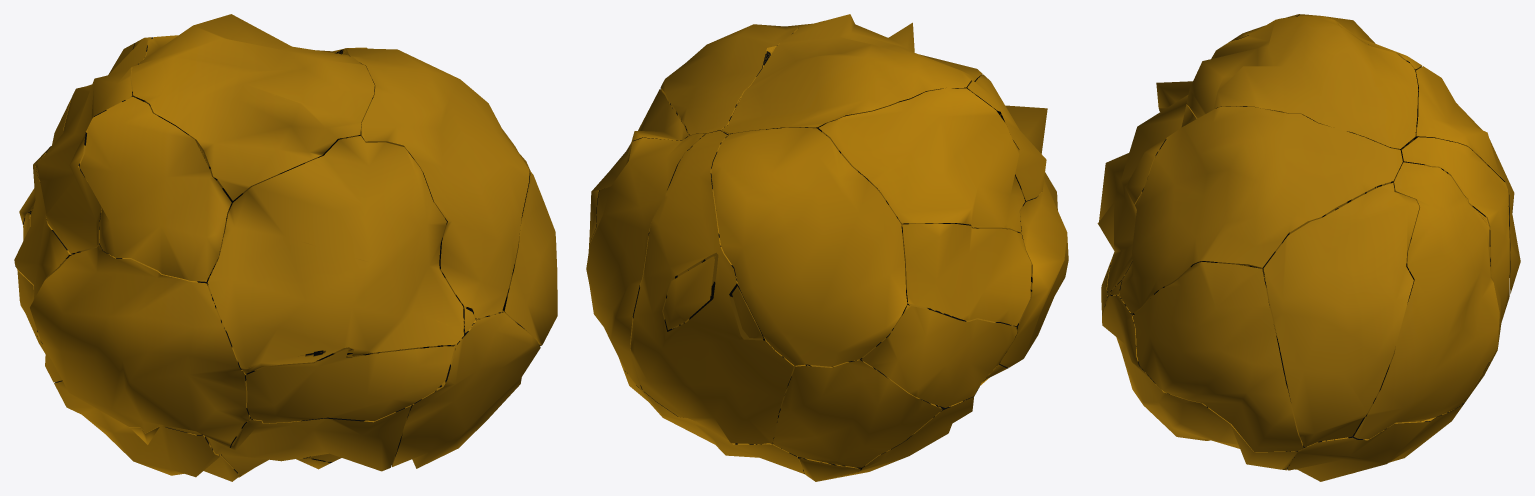
Rendered from ship_asteroid_animation.glb.
The picture shows the model from 3 angles, left to right: view 1: azimuth 30°, elevation 25°; view 2: azimuth 150°, elevation 25°; view 3: azimuth 270°, elevation 25°; orthographic projection. The views are drawn at different scales.
Visible parts, largest first — view 1: asteroid.002_cell.001, asteroid.002_cell.025, asteroid.002_cell.004, asteroid.002_cell.011, asteroid.002_cell.018, asteroid.002_cell.019, asteroid.002_cell.005, asteroid.002_cell.020, asteroid.002_cell.003, asteroid.002_cell.015, asteroid.002_cell.021, asteroid.002_cell.013 (+2 smaller); view 2: asteroid.002_cell.028, asteroid.002_cell.008, asteroid.002_cell.020, asteroid.002_cell.004, asteroid.002_cell.027, asteroid.002_cell.006, asteroid.002_cell.013, asteroid.002_cell.002, asteroid.002_cell.011, asteroid.002_cell.025, asteroid.002_cell.018, asteroid.002_cell.023 (+5 smaller); view 3: asteroid.002_cell.011, asteroid.002_cell.023, asteroid.002_cell.006, asteroid.002_cell.015, asteroid.002_cell.004, asteroid.002_cell.001, asteroid.002_cell.005, asteroid.002_cell.008, asteroid.002_cell.007, asteroid.002_cell.028, asteroid.002_cell.018, asteroid.002_cell.020 (+1 smaller).
Part boxes in pixels (bbox=[...]): asteroid.002_cell.001: bbox=[207, 135, 464, 374]; asteroid.002_cell.025: bbox=[30, 244, 250, 447]; asteroid.002_cell.004: bbox=[131, 14, 374, 208]; asteroid.002_cell.011: bbox=[346, 48, 529, 319]; asteroid.002_cell.018: bbox=[79, 96, 231, 281]; asteroid.002_cell.019: bbox=[246, 346, 454, 423]; asteroid.002_cell.005: bbox=[392, 311, 540, 468]; asteroid.002_cell.020: bbox=[35, 37, 153, 253]; asteroid.002_cell.003: bbox=[205, 405, 411, 475]; asteroid.002_cell.015: bbox=[502, 152, 557, 346]; asteroid.002_cell.021: bbox=[54, 380, 240, 481]; asteroid.002_cell.013: bbox=[14, 146, 74, 299]; asteroid.002_cell.028: bbox=[711, 127, 907, 366]; asteroid.002_cell.008: bbox=[630, 130, 795, 444]; asteroid.002_cell.020: bbox=[818, 88, 1025, 232]; asteroid.002_cell.004: bbox=[722, 14, 982, 134]; asteroid.002_cell.027: bbox=[773, 359, 942, 467]; asteroid.002_cell.006: bbox=[586, 134, 705, 389]; asteroid.002_cell.013: bbox=[901, 223, 1031, 326]; asteroid.002_cell.002: bbox=[861, 302, 1016, 407]; asteroid.002_cell.011: bbox=[660, 23, 812, 135]; asteroid.002_cell.025: bbox=[999, 172, 1068, 367]; asteroid.002_cell.018: bbox=[967, 74, 1047, 200]; asteroid.002_cell.023: bbox=[589, 89, 688, 244]; asteroid.002_cell.011: bbox=[1119, 106, 1402, 314]; asteroid.002_cell.023: bbox=[1263, 183, 1419, 447]; asteroid.002_cell.006: bbox=[1353, 162, 1499, 439]; asteroid.002_cell.015: bbox=[1133, 262, 1303, 452]; asteroid.002_cell.004: bbox=[1186, 16, 1417, 149]; asteroid.002_cell.001: bbox=[1098, 95, 1197, 296]; asteroid.002_cell.005: bbox=[1102, 293, 1297, 469]; asteroid.002_cell.008: bbox=[1396, 137, 1509, 403]; asteroid.002_cell.007: bbox=[1287, 403, 1464, 481]; asteroid.002_cell.028: bbox=[1400, 66, 1514, 212]; asteroid.002_cell.018: bbox=[1156, 14, 1300, 109]; asteroid.002_cell.020: bbox=[1297, 14, 1421, 70].
Bounding box in the file's own units: 1.01 × 0.8938 × 0.876.
1 material, 1 textured.
